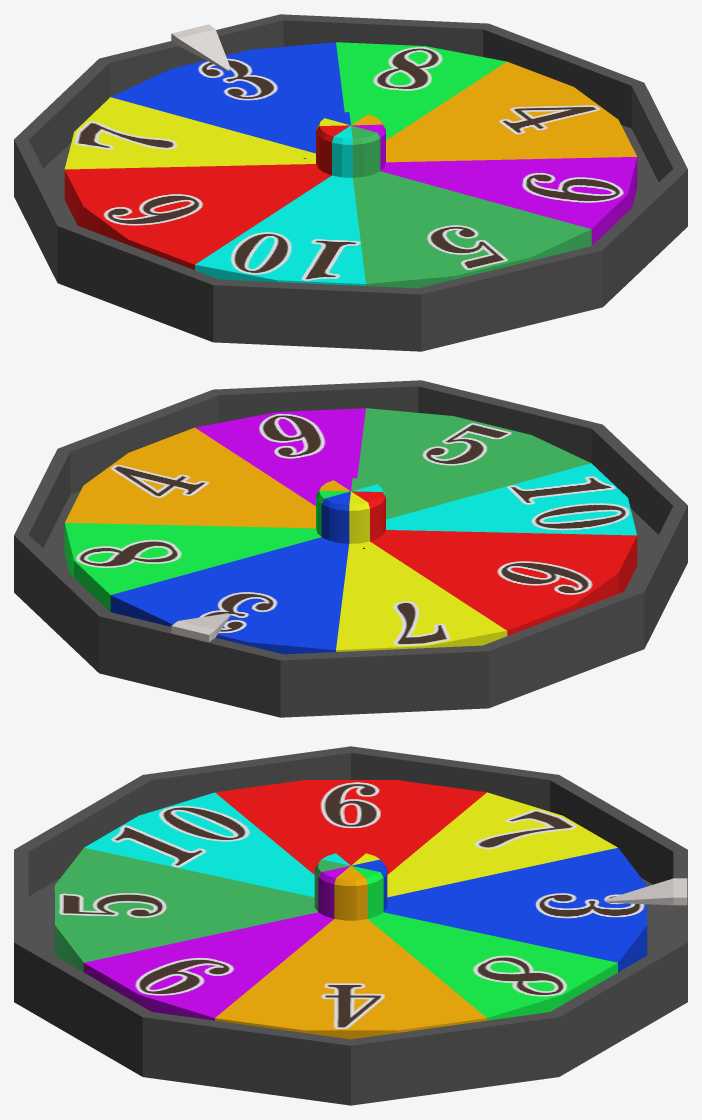
File: Roulette_Model.fbx
The picture shows the model from 3 angles, top to bottom: view 1: azimuth 30°, elevation 25°; view 2: azimuth 150°, elevation 25°; view 3: azimuth 270°, elevation 25°; orthographic projection. The views are drawn at different scales.
Parts seen in each view (by area): view 1: Base, polySurface6, polySurface2, Roulette008, Roulette007, Roulette006, Roulette005, Roulette003, Roulette004, Pin; view 2: Base, polySurface2, Roulette007, Roulette008, polySurface6, Roulette003, Roulette004, Roulette006, Roulette005, Pin; view 3: Base, Roulette008, polySurface6, Roulette007, polySurface2, Roulette005, Roulette004, Roulette003, Roulette006, Pin.
Part boxes in pixels (bbox=[...]): Base: bbox=[14, 14, 687, 351]; polySurface6: bbox=[351, 125, 591, 288]; polySurface2: bbox=[64, 125, 350, 269]; Roulette008: bbox=[351, 61, 636, 162]; Roulette007: bbox=[111, 42, 350, 153]; Roulette006: bbox=[195, 125, 365, 285]; Roulette005: bbox=[351, 124, 637, 245]; Roulette003: bbox=[64, 97, 349, 169]; Roulette004: bbox=[336, 42, 506, 139]; Pin: bbox=[171, 24, 230, 70]; Base: bbox=[14, 380, 687, 717]; polySurface2: bbox=[351, 491, 637, 635]; Roulette007: bbox=[110, 491, 350, 654]; Roulette008: bbox=[65, 427, 350, 528]; polySurface6: bbox=[351, 408, 590, 519]; Roulette003: bbox=[336, 491, 507, 651]; Roulette004: bbox=[64, 490, 350, 611]; Roulette006: bbox=[352, 463, 636, 535]; Roulette005: bbox=[195, 408, 365, 505]; Pin: bbox=[171, 613, 230, 642]; Base: bbox=[14, 746, 687, 1105]; Roulette008: bbox=[215, 866, 486, 1039]; polySurface6: bbox=[54, 848, 350, 971]; Roulette007: bbox=[351, 848, 647, 972]; polySurface2: bbox=[215, 780, 486, 874]; Roulette005: bbox=[83, 866, 350, 1020]; Roulette004: bbox=[351, 866, 617, 1020]; Roulette003: bbox=[351, 792, 617, 897]; Roulette006: bbox=[84, 792, 350, 897]; Pin: bbox=[606, 878, 687, 905].
Bounding box in the file's own units: 50.45 × 7.08 × 47.98.
